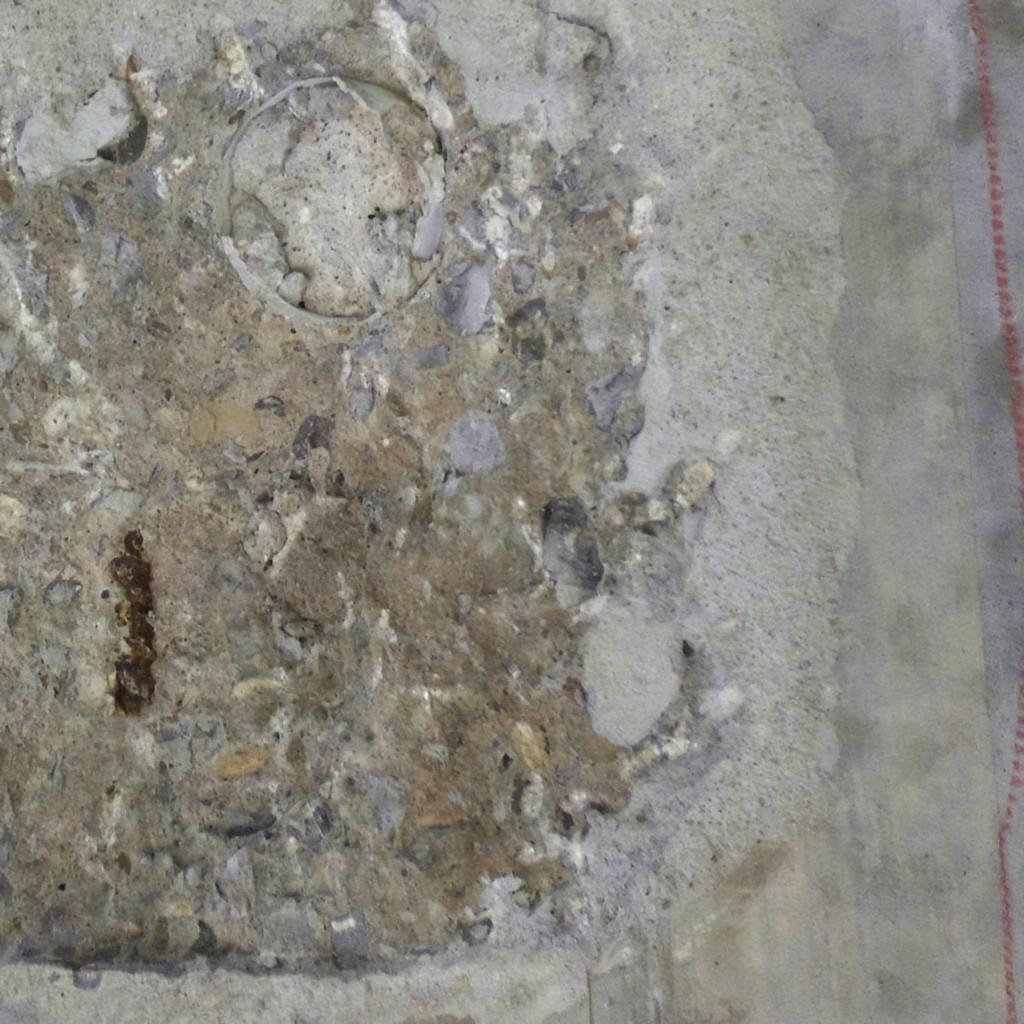exposed_rebar: (110, 530, 156, 713)
spalling: (0, 16, 740, 968)
